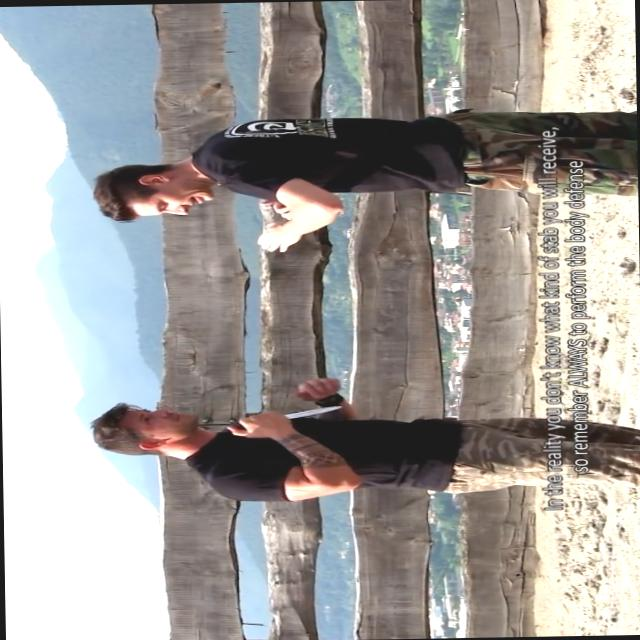knife: (223, 402, 348, 437)
